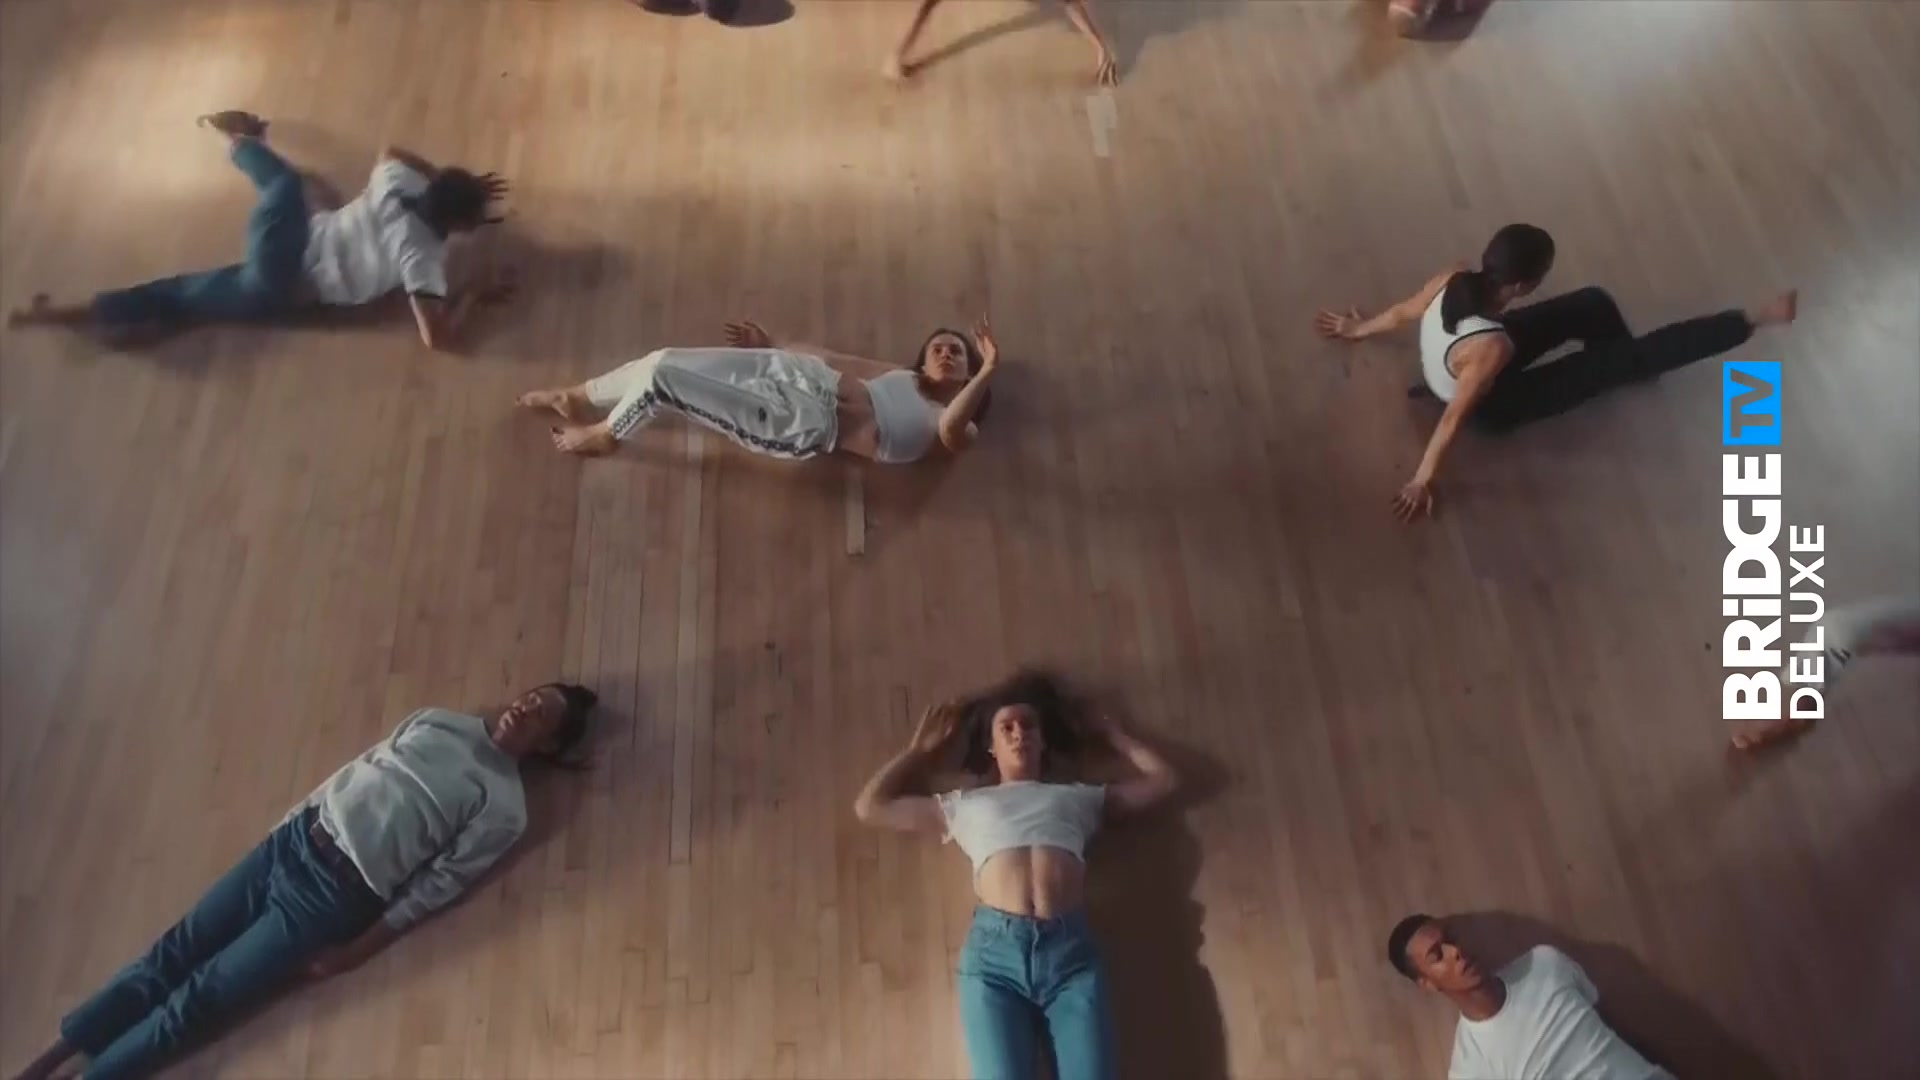Bridge_TV_Deluxe: (1716, 355, 1833, 724)
